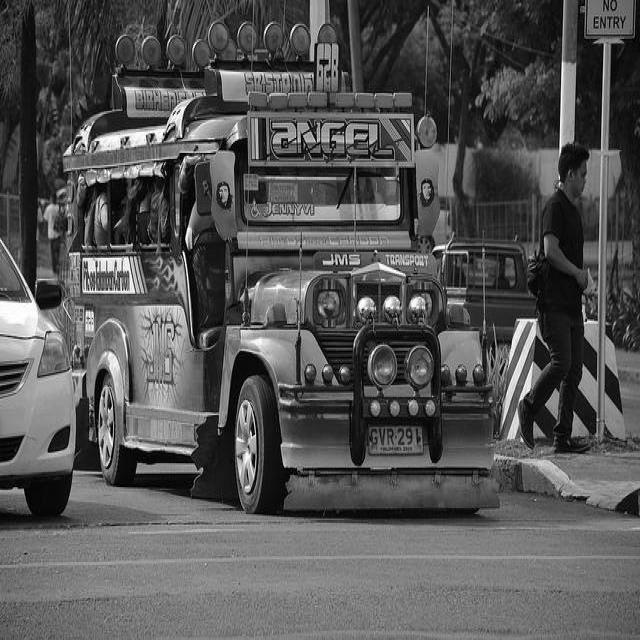vehicle: (59, 12, 499, 516), (1, 240, 79, 520), (432, 229, 541, 351)
